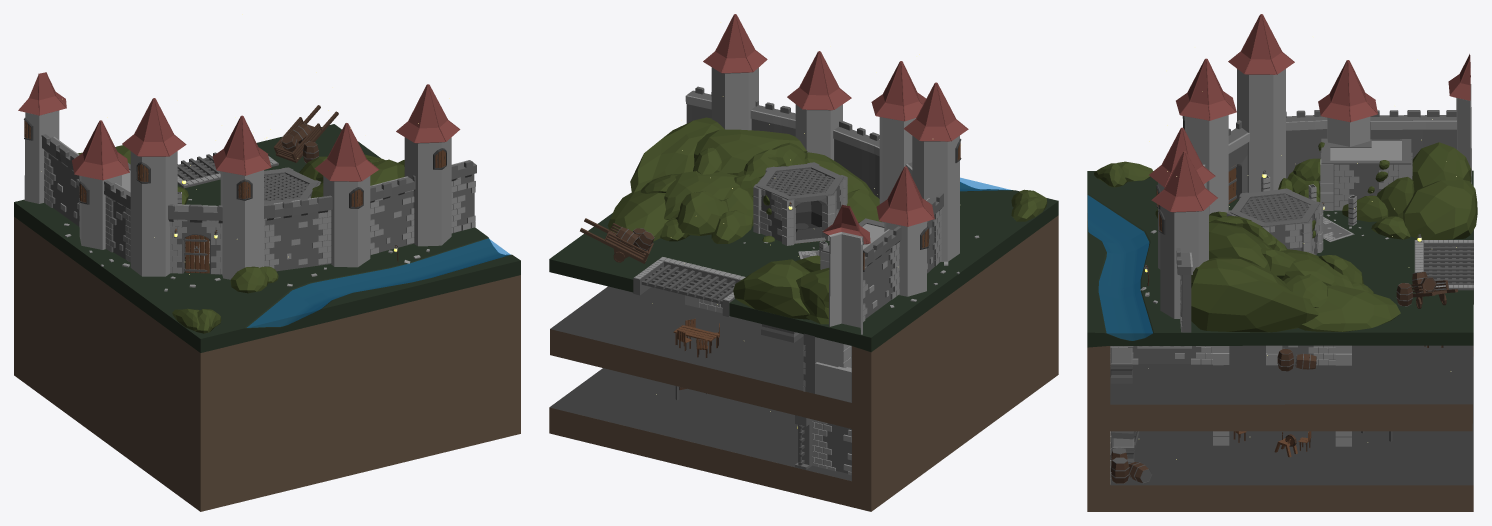
Rendered from castle.glb.
3 renders of one model, left to right at view 1: azimuth 30°, elevation 25°; view 2: azimuth 150°, elevation 25°; view 3: azimuth 270°, elevation 25°, orthographic. The views are drawn at different scales.
Visible parts, largest first — view 1: Cube.060_114, Cylinder.036_48, Cylinder.001_82, Cylinder.038_46, Cylinder.035_49, Cube.062_112, Cube.011_141, Cylinder.003_80, Cylinder.034_50, Cube.004_148, gateway.001_39, Cube.021_136 (+8 smaller); view 2: Cube.060_114, Cylinder.036_48, Cube.057_117, Cylinder.001_82, Cylinder.003_80, Cylinder.034_50, Cylinder.038_46, Cylinder.035_49, Icosphere.031_7, Icosphere.033_5, Cube.021_136, Icosphere.016_22 (+24 smaller); view 3: Cube.060_114, Icosphere.033_5, Cylinder.036_48, Cube.062_112, Cylinder.001_82, Cube.097_103, Cylinder.038_46, Cube.057_117, Icosphere.031_7, Cylinder.003_80, Icosphere.034_4, Cube.021_136 (+27 smaller).
Boxes of the visible parts, left/top/right/bottom form: Cube.060_114: left=14, top=124, right=520, bottom=511; Cylinder.036_48: left=122, top=98, right=186, bottom=276; Cylinder.001_82: left=396, top=84, right=460, bottom=246; Cylinder.038_46: left=212, top=115, right=271, bottom=279; Cylinder.035_49: left=314, top=123, right=378, bottom=267; Cube.062_112: left=247, top=238, right=510, bottom=327; Cube.011_141: left=264, top=195, right=332, bottom=271; Cylinder.003_80: left=72, top=120, right=129, bottom=249; Cylinder.034_50: left=18, top=72, right=66, bottom=203; Cube.004_148: left=370, top=175, right=415, bottom=254; gateway.001_39: left=168, top=204, right=222, bottom=274; Cube.021_136: left=41, top=134, right=79, bottom=227; Cube.060_114: left=549, top=182, right=1058, bottom=511; Cylinder.036_48: left=904, top=82, right=968, bottom=261; Cube.057_117: left=753, top=162, right=847, bottom=245; Cylinder.001_82: left=703, top=14, right=767, bottom=130; Cylinder.003_80: left=876, top=166, right=934, bottom=296; Cylinder.034_50: left=822, top=204, right=870, bottom=334; Cylinder.038_46: left=871, top=61, right=926, bottom=222; Cylinder.035_49: left=787, top=51, right=851, bottom=160; Icosphere.031_7: left=733, top=259, right=810, bottom=319; Icosphere.033_5: left=630, top=117, right=724, bottom=192; Cube.021_136: left=863, top=226, right=901, bottom=321; Icosphere.016_22: left=694, top=129, right=807, bottom=175; Cube.060_114: left=1087, top=170, right=1473, bottom=511; Icosphere.033_5: left=1191, top=257, right=1318, bottom=332; Cylinder.036_48: left=1228, top=14, right=1294, bottom=193; Cube.062_112: left=1088, top=195, right=1152, bottom=340; Cylinder.001_82: left=1151, top=151, right=1217, bottom=318; Cube.097_103: left=1320, top=138, right=1412, bottom=210; Cylinder.038_46: left=1176, top=58, right=1236, bottom=214; Cube.057_117: left=1226, top=188, right=1323, bottom=254; Icosphere.031_7: left=1403, top=180, right=1477, bottom=239; Cylinder.003_80: left=1318, top=60, right=1377, bottom=146; Icosphere.034_4: left=1297, top=285, right=1400, bottom=331; Cube.021_136: left=1370, top=110, right=1456, bottom=159.
Bounding box in the file's own units: 18.4 × 18.57 × 18.53.
